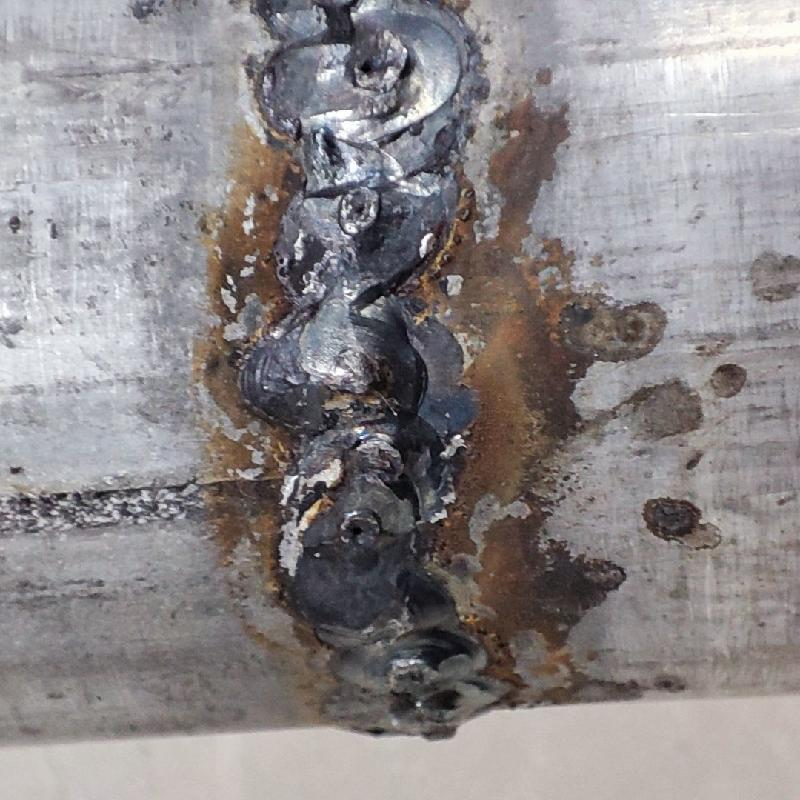Surface_pores: (348, 40, 393, 85), (338, 514, 382, 555), (340, 185, 378, 228)
wrong_size: (257, 1, 499, 745)
